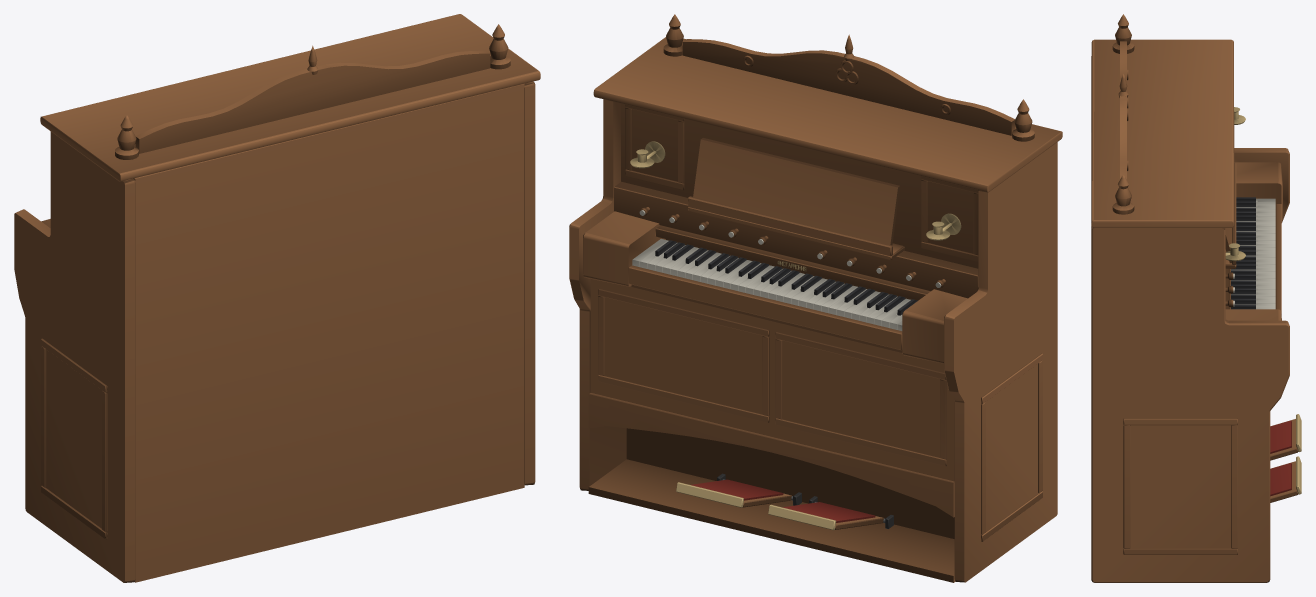
The model's file is harmonium.glb.
The picture shows the model from 3 angles, left to right: view 1: azimuth 30°, elevation 25°; view 2: azimuth 150°, elevation 25°; view 3: azimuth 270°, elevation 25°; orthographic projection. The views are drawn at different scales.
Visible parts, largest first — view 1: case; view 2: case, music_desk, pedal_l, pedal_r, stops; view 3: case, pedal_r, pedal_l, music_desk.
Boxes of the visible parts, <box> form: case: <box>14,14,540,582</box>; case: <box>569,14,1062,582</box>; music_desk: <box>688,138,904,260</box>; pedal_l: <box>768,501,885,530</box>; pedal_r: <box>676,479,792,507</box>; stops: <box>639,207,945,288</box>; case: <box>1091,14,1289,582</box>; pedal_r: <box>1270,456,1301,502</box>; pedal_l: <box>1270,414,1301,460</box>; music_desk: <box>1225,162,1236,268</box>.
Size of the model in its own units: 1.2 by 1.3 by 0.5878.
